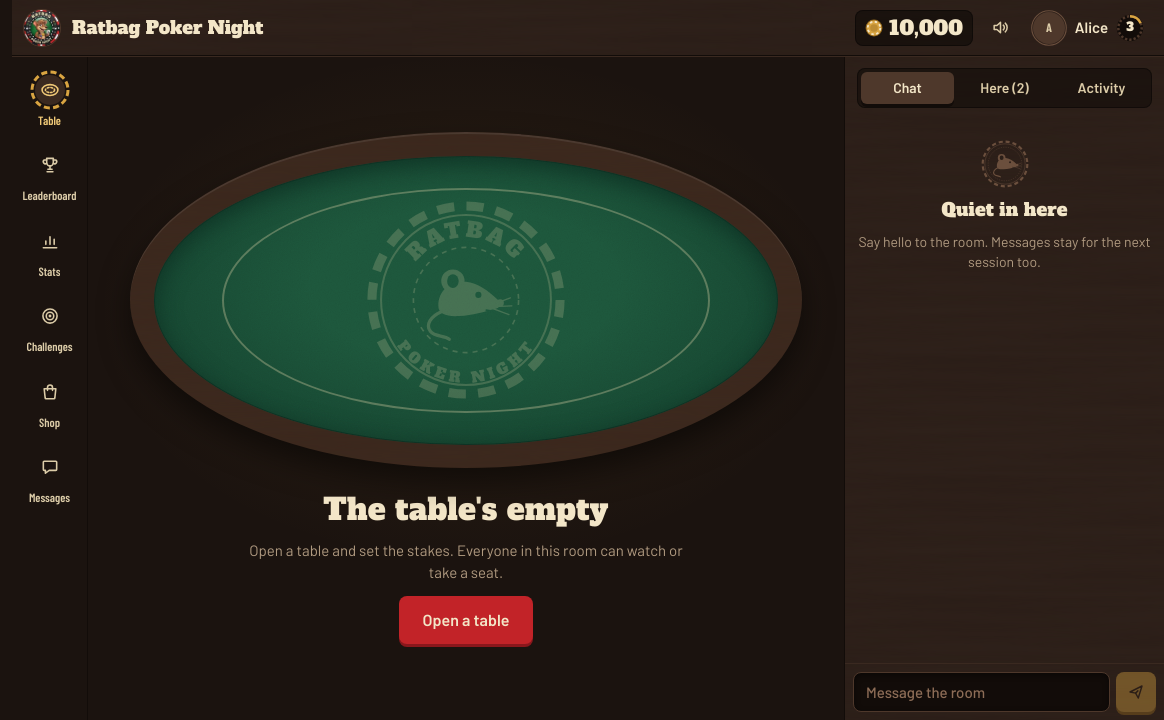
Test: Shell › lists who is here with presence in the room panel
The image size is (1164, 720).
Click the tab "Here (2)": (1004, 88) [958,72,1051,104]
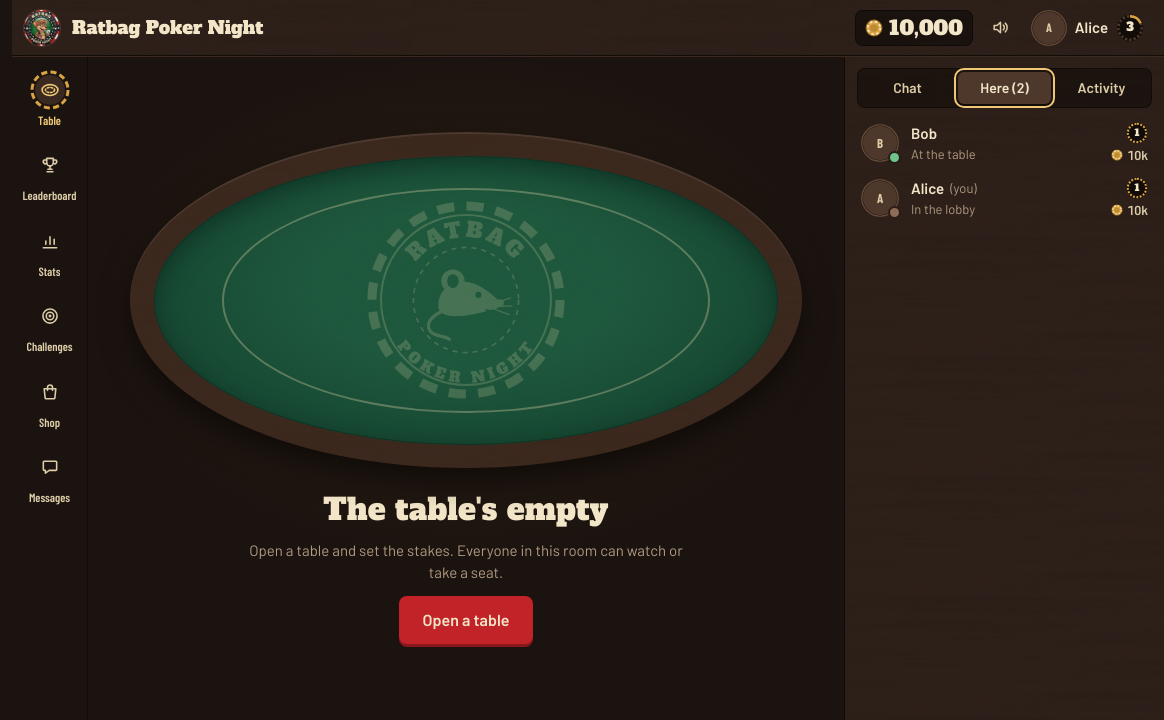
expect the text "Bob" is shown: met, box [911,123,937,145]
expect the text "At the table" is shown: met, box [911,146,976,162]
